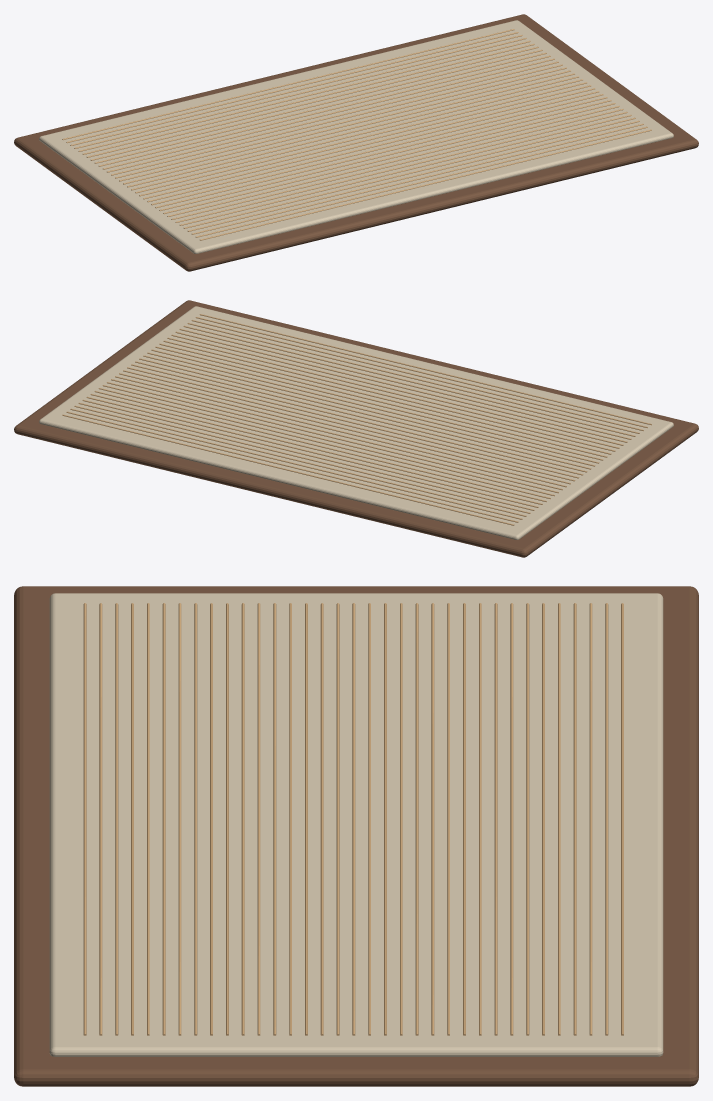
File: Doormat_Blank.glb
3 renders of one model, top to bottom at view 1: azimuth 30°, elevation 25°; view 2: azimuth 150°, elevation 25°; view 3: azimuth 270°, elevation 25°, orthographic. The views are drawn at different scales.
Parts seen in each view (by area): view 1: Doormat_Mesh; view 2: Doormat_Mesh; view 3: Doormat_Mesh.
Part boxes in pixels (bbox=[...]): Doormat_Mesh: bbox=[14, 14, 698, 271]; Doormat_Mesh: bbox=[14, 300, 698, 557]; Doormat_Mesh: bbox=[14, 586, 698, 1086].
Size of the model in its own units: 0.88 by 0.0221 by 0.52.
